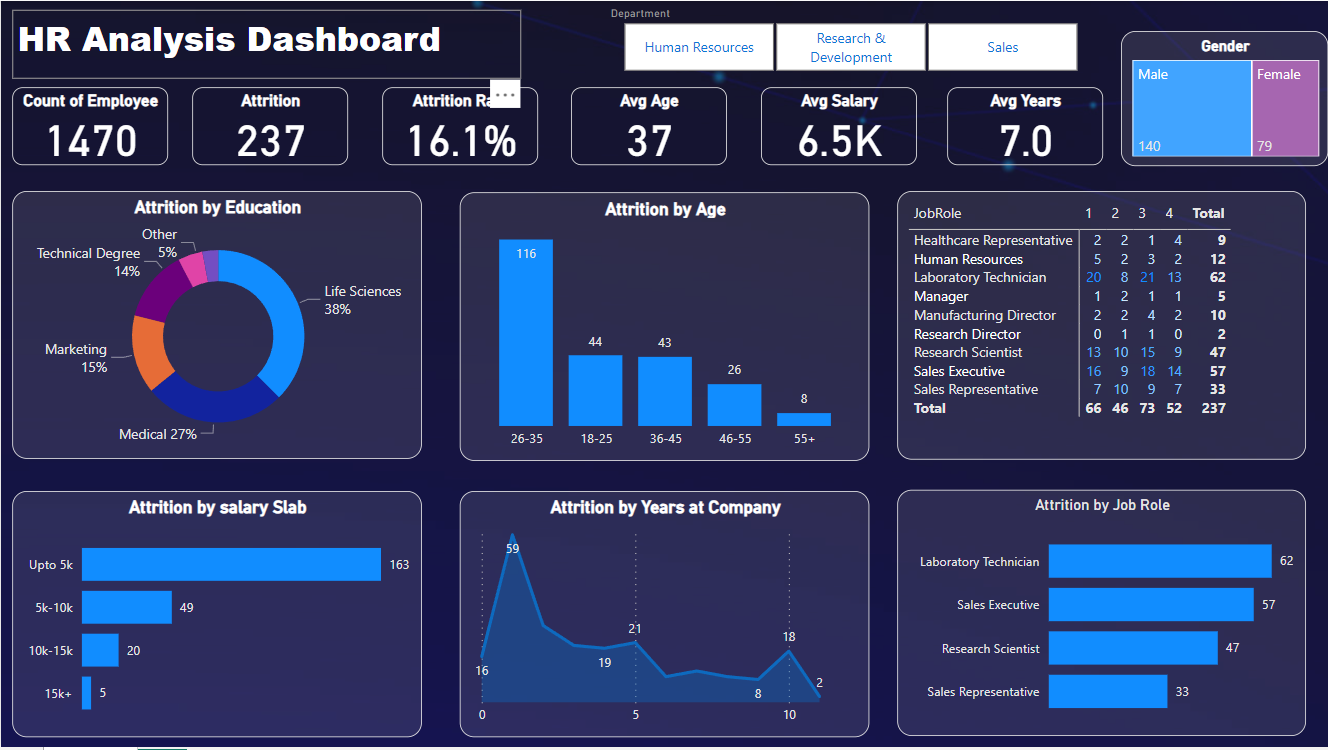

What the dashboard file says about the page in this screenshot:
{"tool":"powerbi","page":{"name":"Page 1","canvas":[1280,720],"ordinal":0},"visuals":[{"type":"card","title":"Count of Employee","fields":{"Values":["CountNonNull(HR_Analytics.EmpID)"]},"box":[11.2,83.8,150,75],"z":0},{"type":"card","title":"Attrition","fields":{"Values":["Sum(HR_Analytics.AttritionCount)"]},"box":[185,83.8,150,75],"z":1000},{"type":"card","title":"Attrition Rate","fields":{"Values":["HR_Analytics.AttritionRate"]},"box":[367.5,83.8,150,75],"z":2000},{"type":"card","title":"Avg Age","fields":{"Values":["Avg(HR_Analytics.Age)"]},"box":[550,83.8,150,75],"z":3000},{"type":"card","title":"Avg Years","fields":{"Values":["Avg(HR_Analytics.YearsAtCompany)"]},"box":[912.5,83.8,150,75],"z":4000},{"type":"card","title":"Avg Salary","fields":{"Values":["Avg(HR_Analytics.MonthlyIncome)"]},"box":[733.8,83.8,150,75],"z":5000},{"type":"donutChart","title":"Attrition by Education","fields":{"Category":["HR_Analytics.EducationField"],"Y":["Sum(HR_Analytics.AttritionCount)"]},"box":[11.2,183.8,395,258.8],"z":6000},{"type":"columnChart","title":"Attrition by Age","fields":{"Category":["HR_Analytics.AgeGroup"],"Y":["Sum(HR_Analytics.AttritionCount)"]},"box":[427.5,183.8,395,258.8],"z":7000},{"type":"pivotTable","fields":{"Rows":["HR_Analytics.JobRole"],"Columns":["HR_Analytics.JobSatisfaction"],"Values":["Sum(HR_Analytics.AttritionCount)"]},"box":[850,183.8,395,258.8],"z":8000},{"type":"clusteredBarChart","title":"Attrition by salary Slab","fields":{"Category":["HR_Analytics.SalarySlab"],"Y":["Sum(HR_Analytics.AttritionCount)"]},"box":[11.2,472.5,395,237.5],"z":9000},{"type":"clusteredBarChart","title":"Attrition by Job Role","fields":{"Category":["HR_Analytics.JobRole"],"Y":["Sum(HR_Analytics.AttritionCount)"]},"box":[850,472.5,395,237.5],"z":10000},{"type":"areaChart","title":"Attrition by Years at Company","fields":{"Category":["HR_Analytics.YearsAtCompany"],"Y":["Sum(HR_Analytics.AttritionCount)"]},"box":[427.5,472.5,395,237.5],"z":11000},{"type":"treemap","title":"Gender","fields":{"Group":["HR_Analytics.Gender"],"Values":["Sum(HR_Analytics.AttritionCount)"]},"box":[1080,28.8,200,130],"z":12000},{"type":"slicer","fields":{"Values":["HR_Analytics.Department"]},"box":[575,0,487.5,74],"z":13000},{"type":"textbox","box":[11.2,8.8,490,66.2],"z":14000}]}

Visuals, with their boxes in screenshot pixels (x1, y1, x2, y2), scaled from the page's 1280x720 canvas onto the 1328x750 screenshot:
"Count of Employee" card: 12, 87, 167, 165
"Attrition" card: 192, 87, 348, 165
"Attrition Rate" card: 381, 87, 537, 165
"Avg Age" card: 571, 87, 726, 165
"Avg Years" card: 947, 87, 1102, 165
"Avg Salary" card: 761, 87, 917, 165
"Attrition by Education" donutChart: 12, 191, 421, 461
"Attrition by Age" columnChart: 444, 191, 853, 461
pivotTable - HR_Analytics.JobRole x HR_Analytics.JobSatisfaction: 882, 191, 1292, 461
"Attrition by salary Slab" clusteredBarChart: 12, 492, 421, 740
"Attrition by Job Role" clusteredBarChart: 882, 492, 1292, 740
"Attrition by Years at Company" areaChart: 444, 492, 853, 740
"Gender" treemap: 1120, 30, 1327, 165
slicer - HR_Analytics.Department: 597, 0, 1102, 77
textbox: 12, 9, 520, 78
